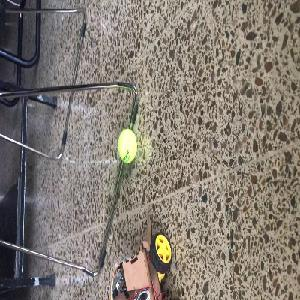Ball: (118, 128, 136, 163)
Robot: (107, 218, 171, 298)
